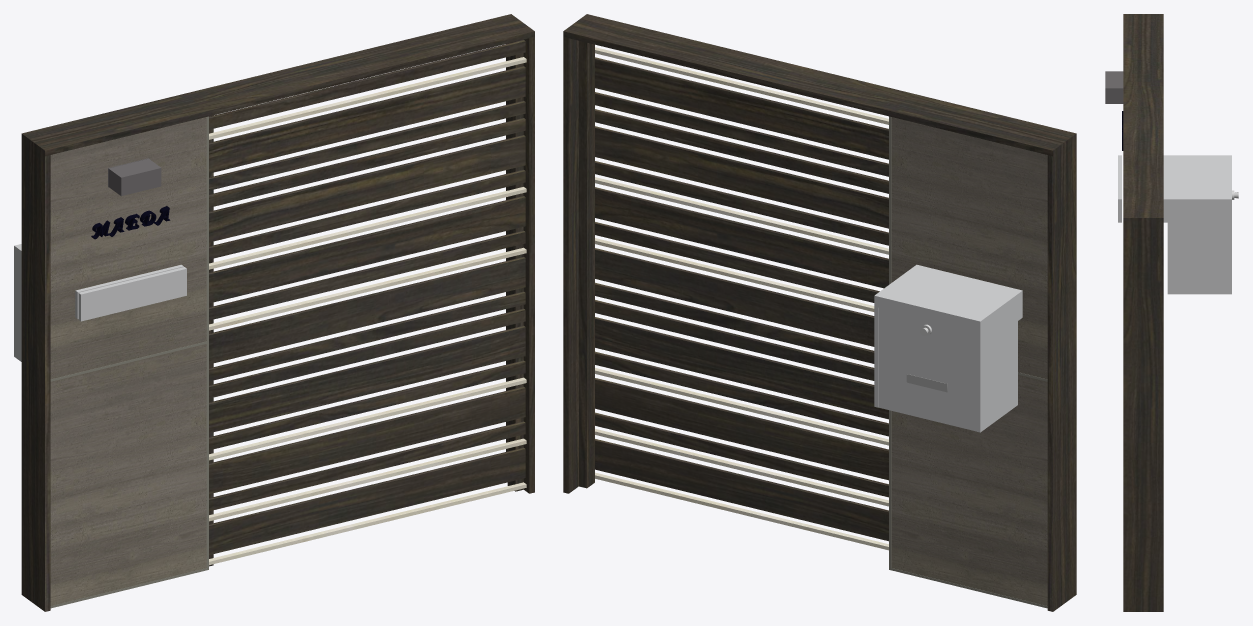
The model's file is ab48-m_rcsugiita.fbx.
3 views of the same model, side by side, from view 1: azimuth 30°, elevation 25°; view 2: azimuth 150°, elevation 25°; view 3: azimuth 270°, elevation 25° (orthographic). The views are drawn at different scales.
Parts seen in each view (by area): view 1: ab48-m_rcsugiita; view 2: ab48-m_rcsugiita; view 3: ab48-m_rcsugiita.
Part boxes in pixels (x1,y1,x2,y2): ab48-m_rcsugiita: (14, 14, 534, 611); ab48-m_rcsugiita: (563, 14, 1076, 611); ab48-m_rcsugiita: (1105, 14, 1238, 611).
Bounding box in the file's own units: 180 × 162 × 49.6.
10 materials, 4 textured.
